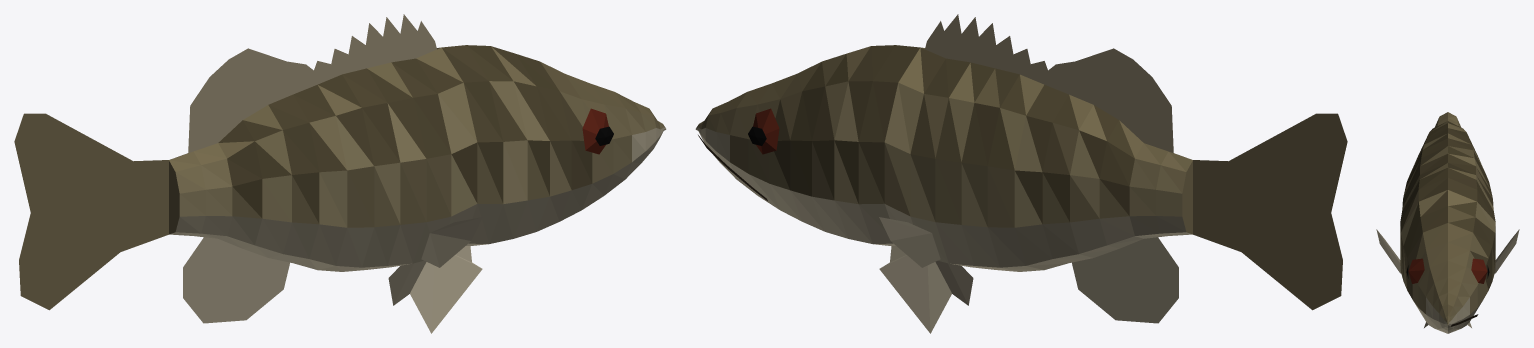
Rendered from smallmouth-bass.glb.
3 views of the same model, side by side, from view 1: azimuth 30°, elevation 25°; view 2: azimuth 150°, elevation 25°; view 3: azimuth 270°, elevation 25° (orthographic). The views are drawn at different scales.
Parts seen in each view (by area): view 1: smallmouth-bass; view 2: smallmouth-bass; view 3: smallmouth-bass.
Part boxes in pixels (bbox=[...]): smallmouth-bass: bbox=[14, 14, 666, 333]; smallmouth-bass: bbox=[695, 14, 1347, 333]; smallmouth-bass: bbox=[1376, 112, 1519, 333].
Bounding box in the file's own units: 1 × 0.4588 × 0.2982.
